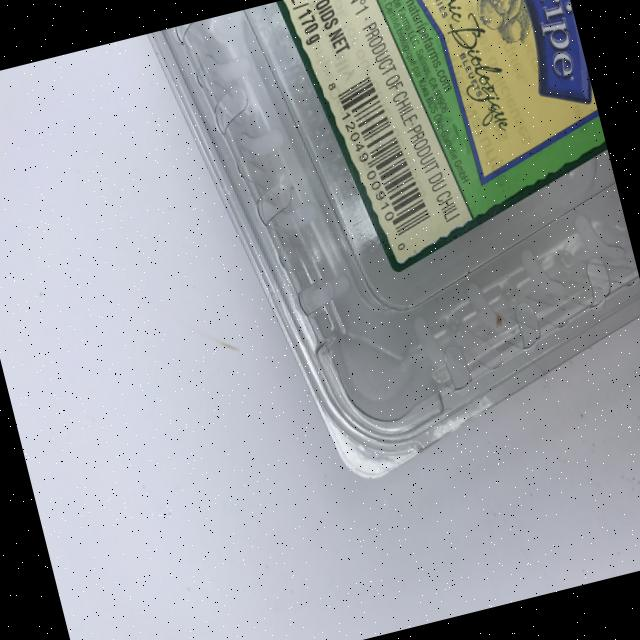plastic: (146, 0, 640, 505)
